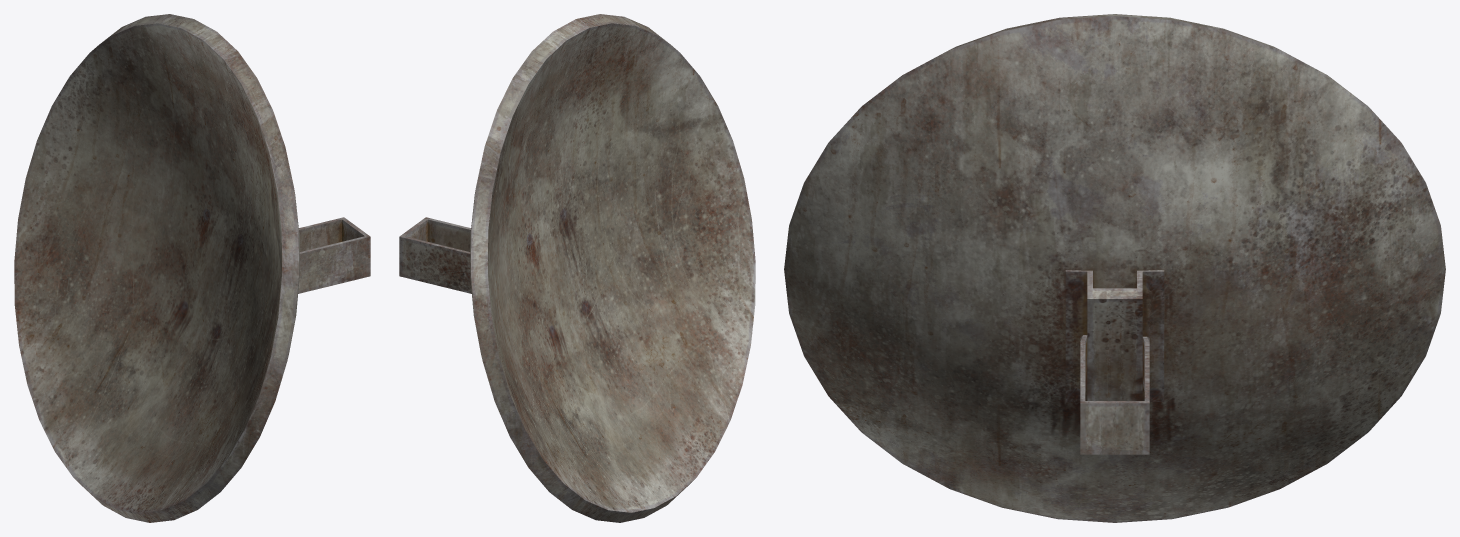
File: SM_satellite_dish.fbx
The picture shows the model from 3 angles, left to right: view 1: azimuth 30°, elevation 25°; view 2: azimuth 150°, elevation 25°; view 3: azimuth 270°, elevation 25°; orthographic projection. The views are drawn at different scales.
Visible parts, largest first — view 1: SM_satellite_dish_LOD0; view 2: SM_satellite_dish_LOD0; view 3: SM_satellite_dish_LOD0.
Boxes of the visible parts, <box> form: SM_satellite_dish_LOD0: <box>14,14,370,522</box>; SM_satellite_dish_LOD0: <box>399,14,755,522</box>; SM_satellite_dish_LOD0: <box>784,14,1445,522</box>.
Size of the model in its own units: 108 by 180 by 174.
